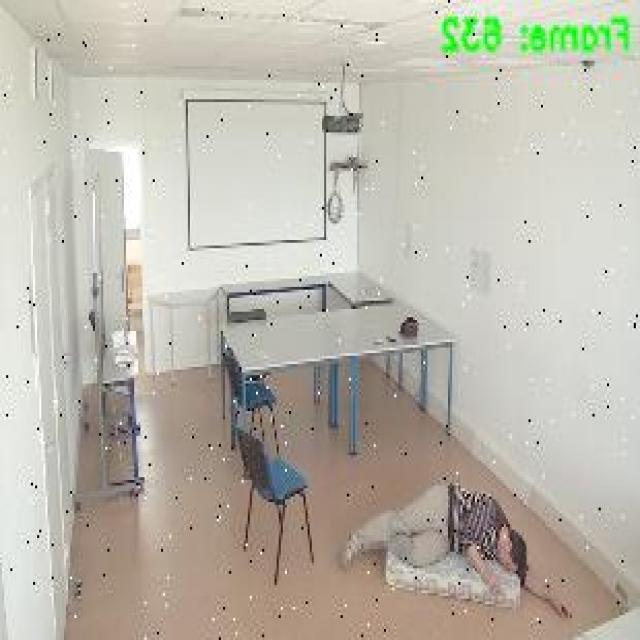fall: (333, 478, 577, 624)
